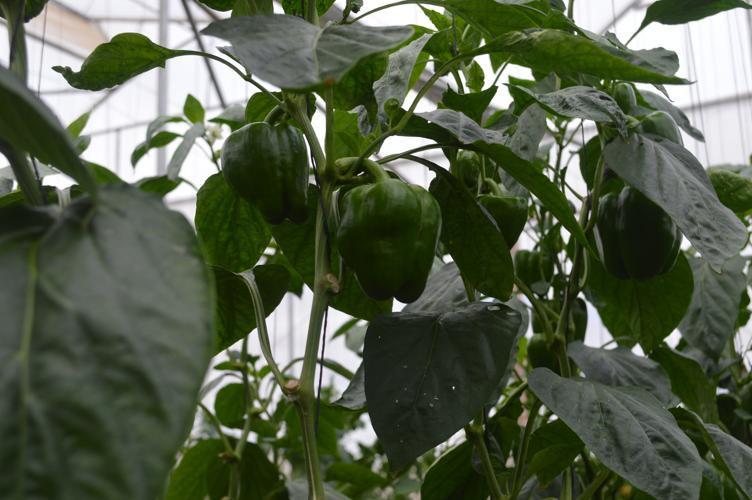BellPepper: (338, 182, 438, 304), (221, 122, 308, 222), (595, 188, 679, 275), (480, 194, 526, 251), (626, 110, 687, 147)
